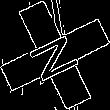N_NE: (23, 26, 87, 84)
